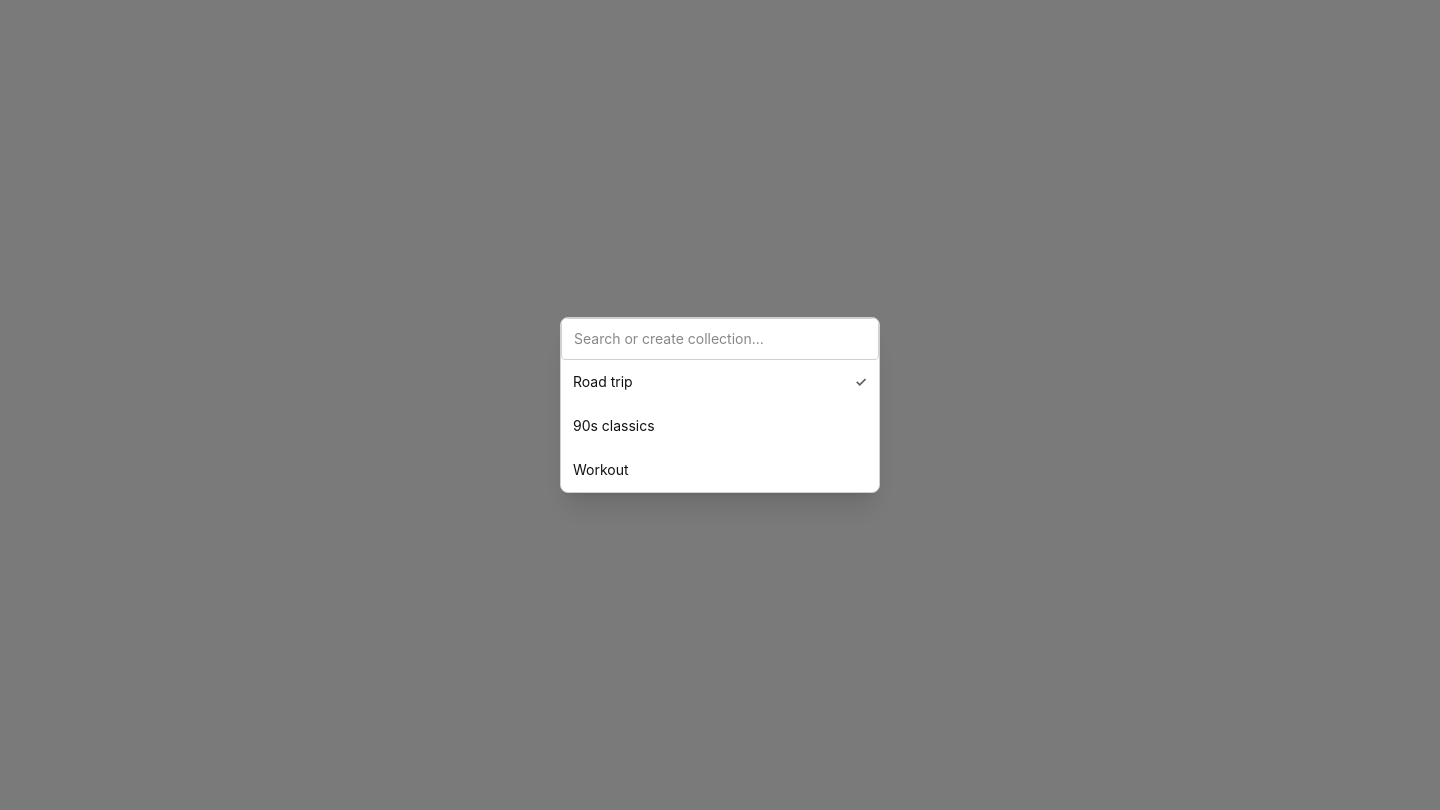
Scenario: CollectionPicker › filters collections by search text
Type "road" into the field with placeholder "Search or create collection...". click: (720, 339)
box: [561,318,879,360]
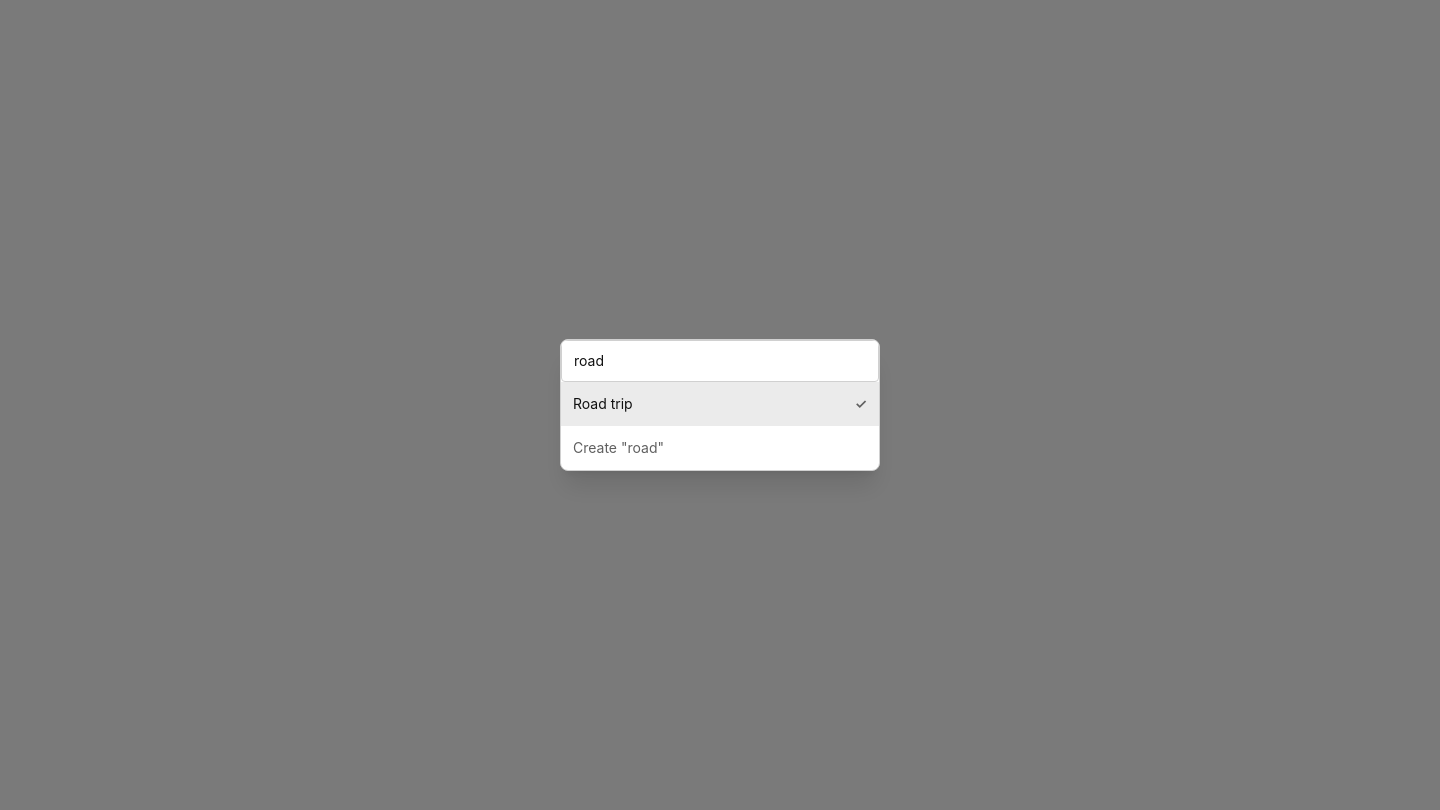
expect the text "Road trip" is shown: met, box [573,394,633,414]
expect the option "90s classics" is gone: met
